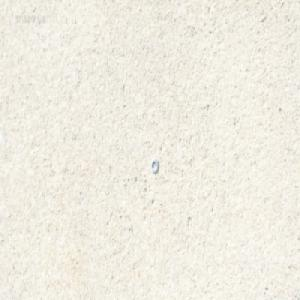Washer: (151, 158, 159, 173)
